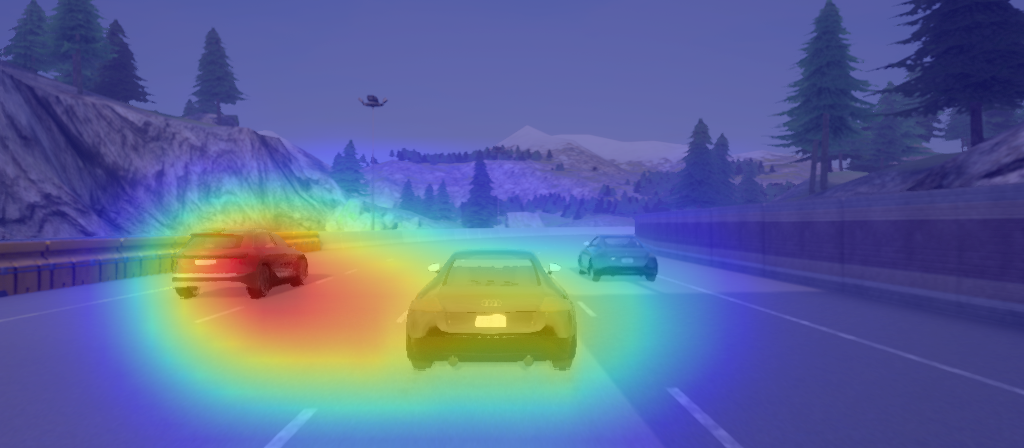Barrier: (674, 206, 1006, 258), (10, 243, 148, 278)
Car: (401, 247, 582, 377), (167, 225, 313, 304), (573, 232, 669, 284)
Lane Marker: (663, 380, 747, 448), (260, 404, 321, 448), (194, 303, 246, 323), (575, 296, 602, 320), (311, 272, 335, 289)
Light Pole: (356, 91, 394, 230)
